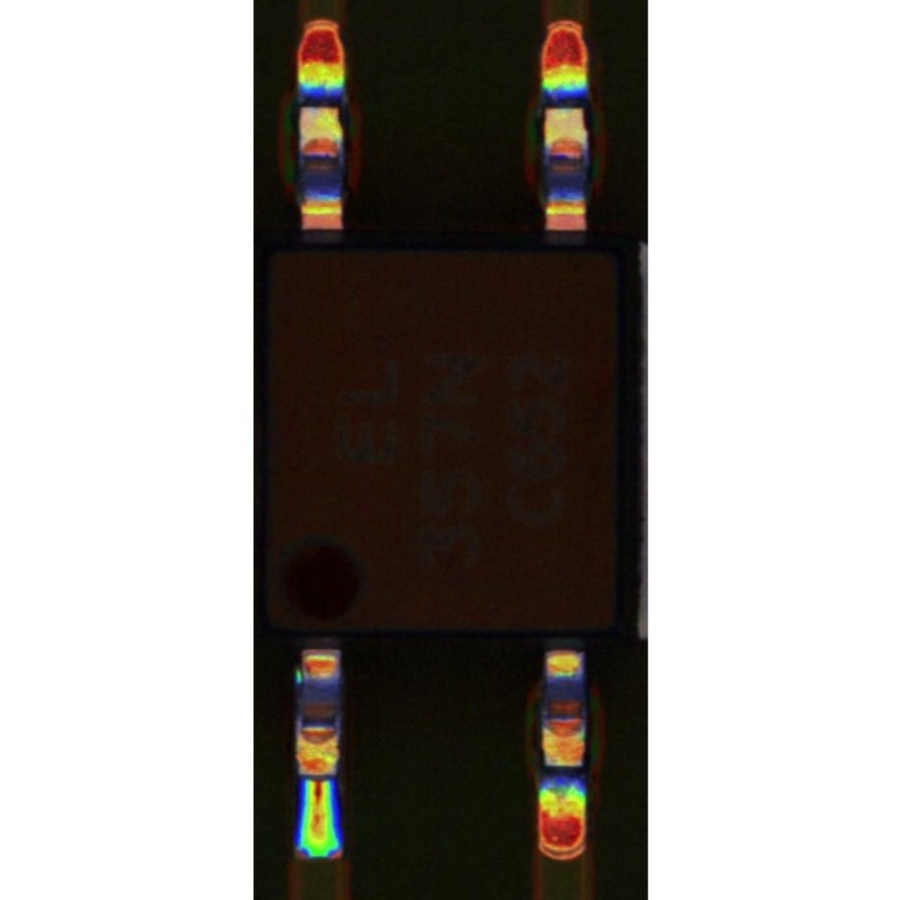Bad_podu: (305, 764, 330, 804)
